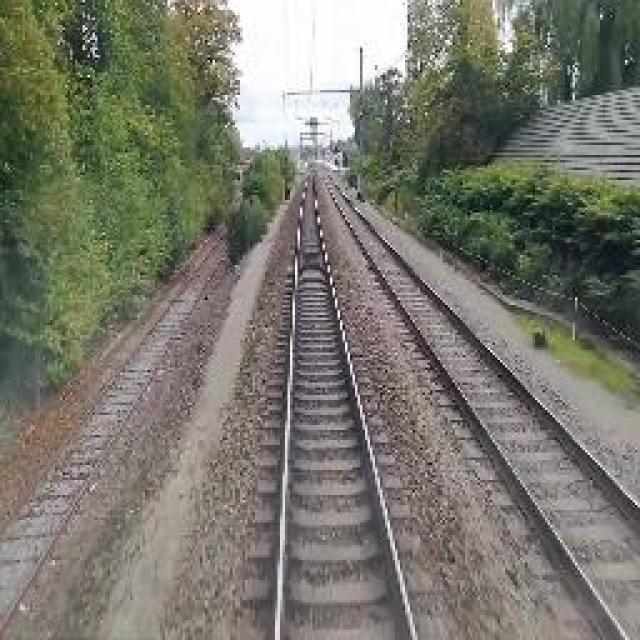rail: (315, 169, 640, 640), (236, 169, 464, 640)
